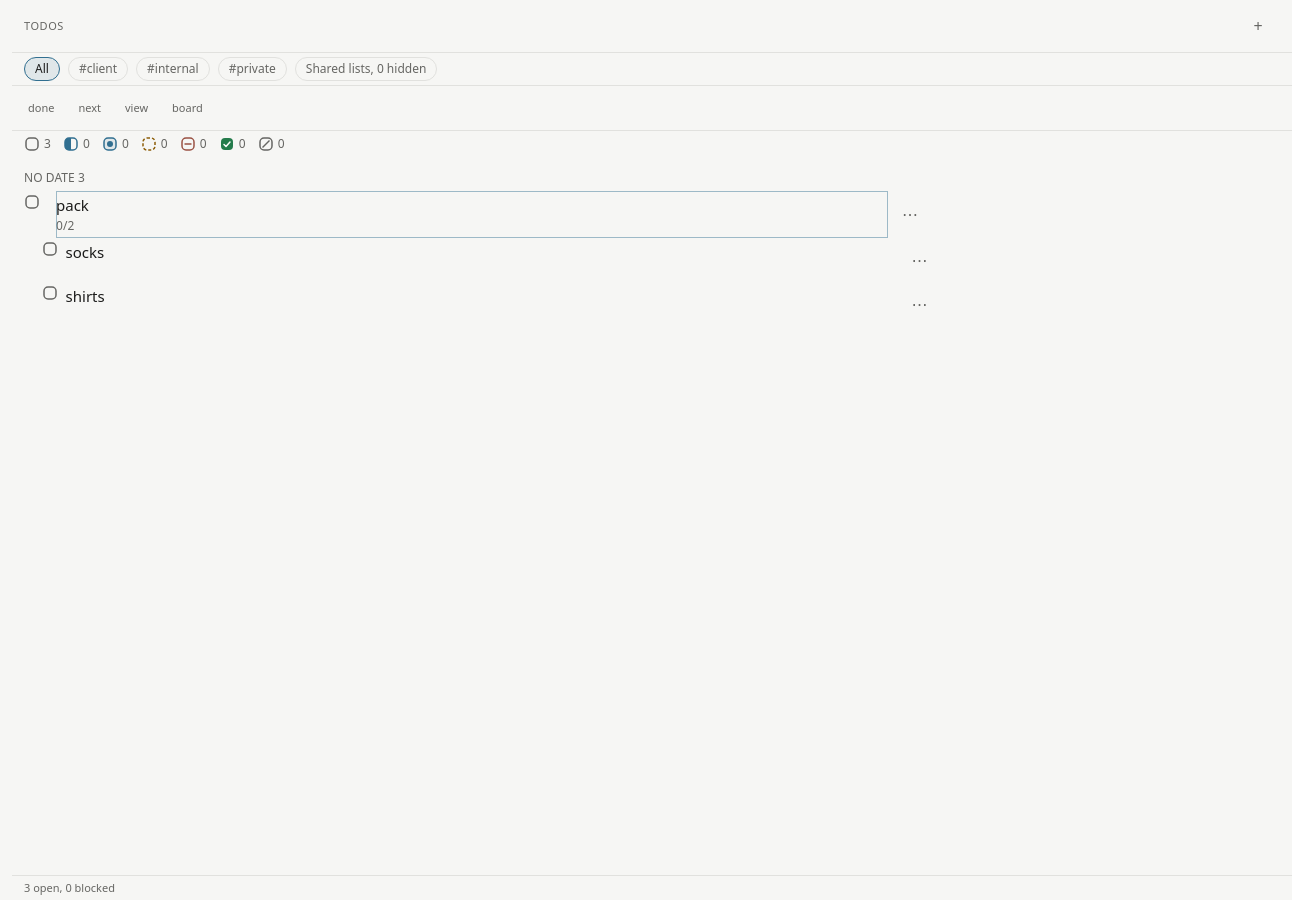
Scenario: the todo pane by touch › shows one next action per todo from a button, as n does
The width and height of the screenshot is (1292, 900).
Expected: the button "shirts" is shown, [66,282,898,326]
Click the button "next" at (90, 108), box [66,86,113,130]
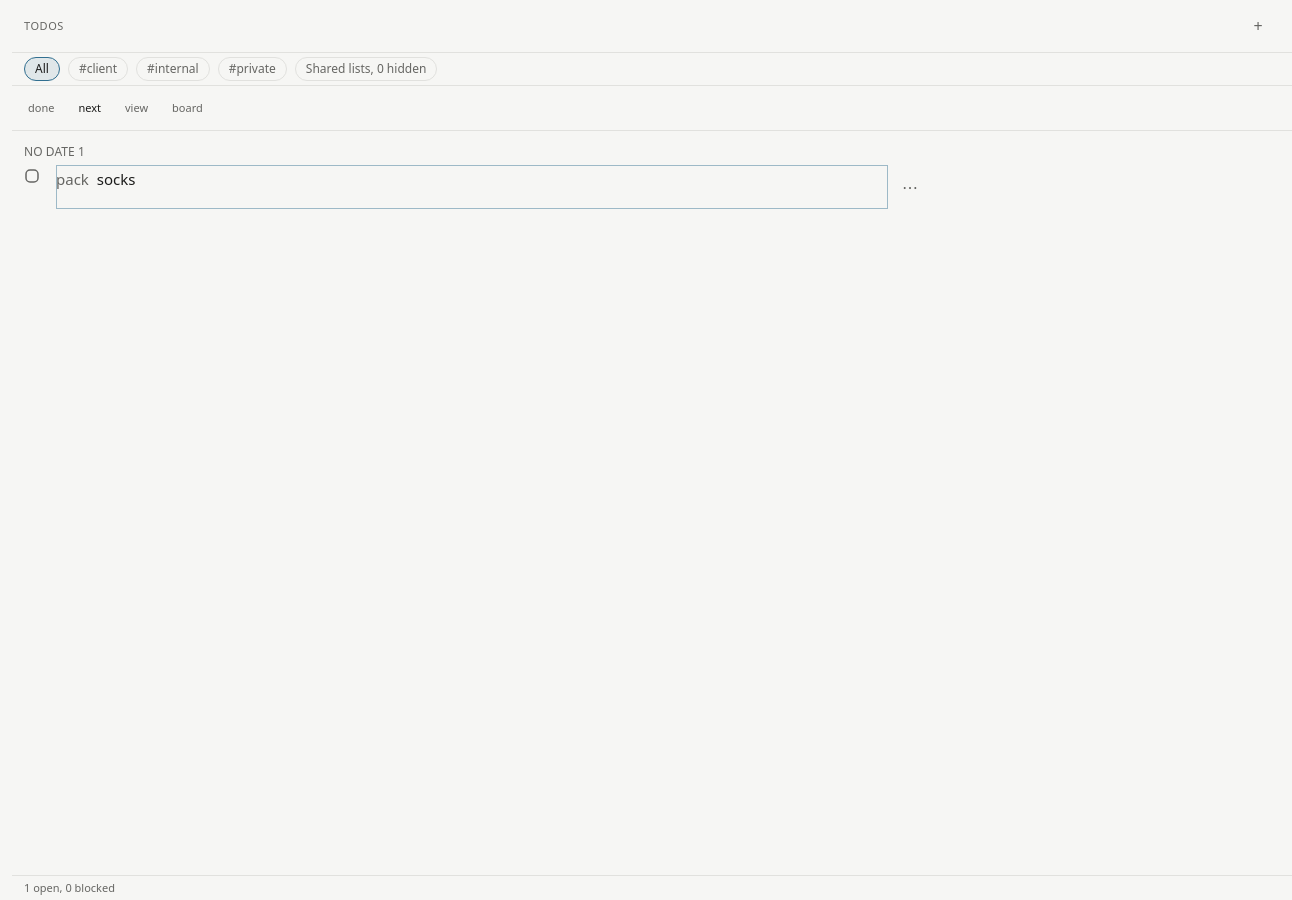
Now the button "pack socks" is shown, box [56,165,888,209]
